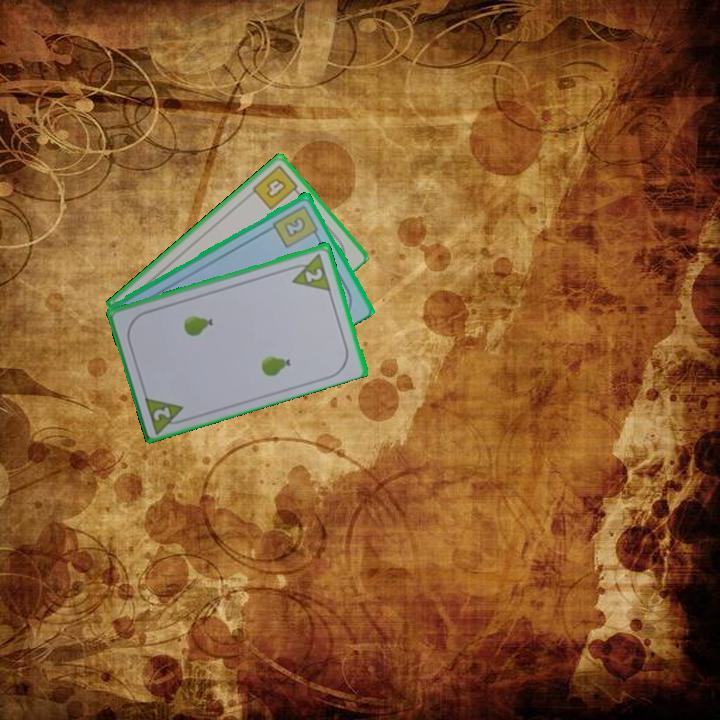2b: (270, 201, 322, 250)
2p: (141, 392, 191, 435), (302, 264, 326, 285)
4b: (249, 161, 304, 212)
